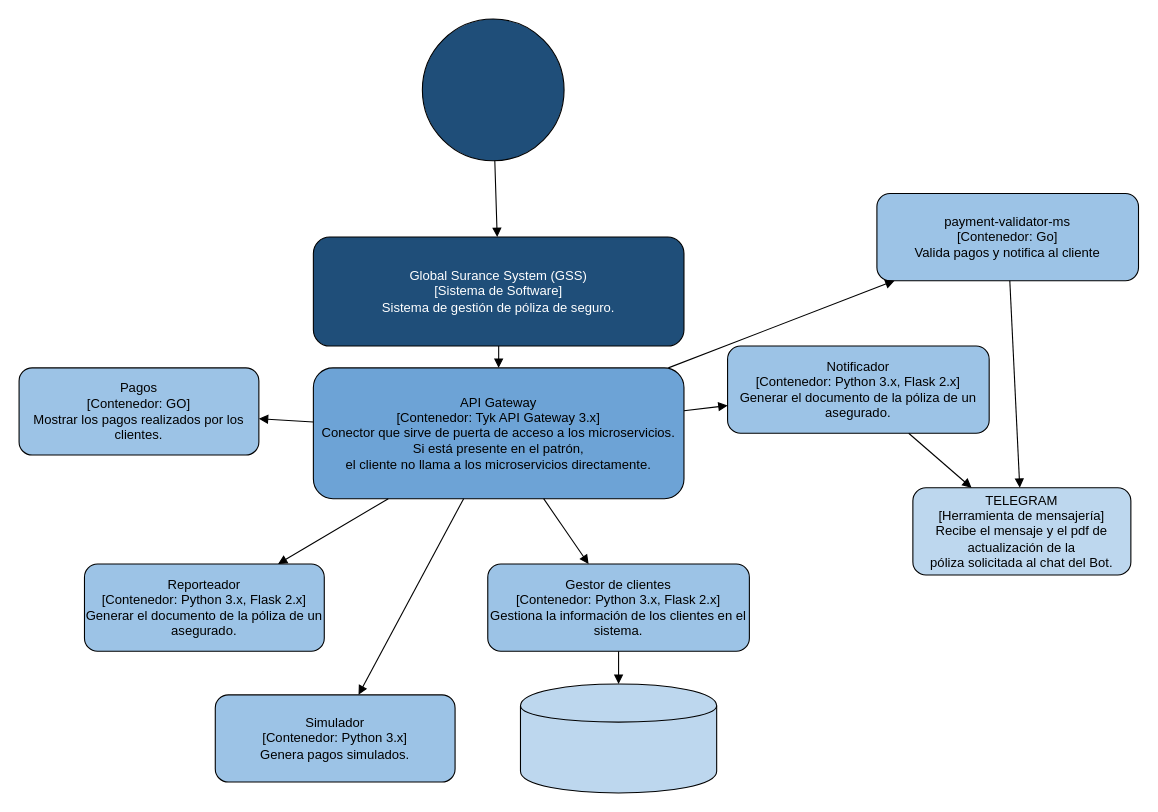
The diagram is 1158 pixels wide and 812 high, and some of its shapes have lost their labels. The shapes that lost their labels are listed below. From the top down, each one's box as (x1, y1, x2, y2) in pixels, then its label:
(421, 18, 564, 161): Agente de seguros [Persona] Intermediario entre aseguradora y asegurado
(519, 683, 717, 793): Base de datos [Contenedor: MongoDB 5.x] Almacena información del sistema
